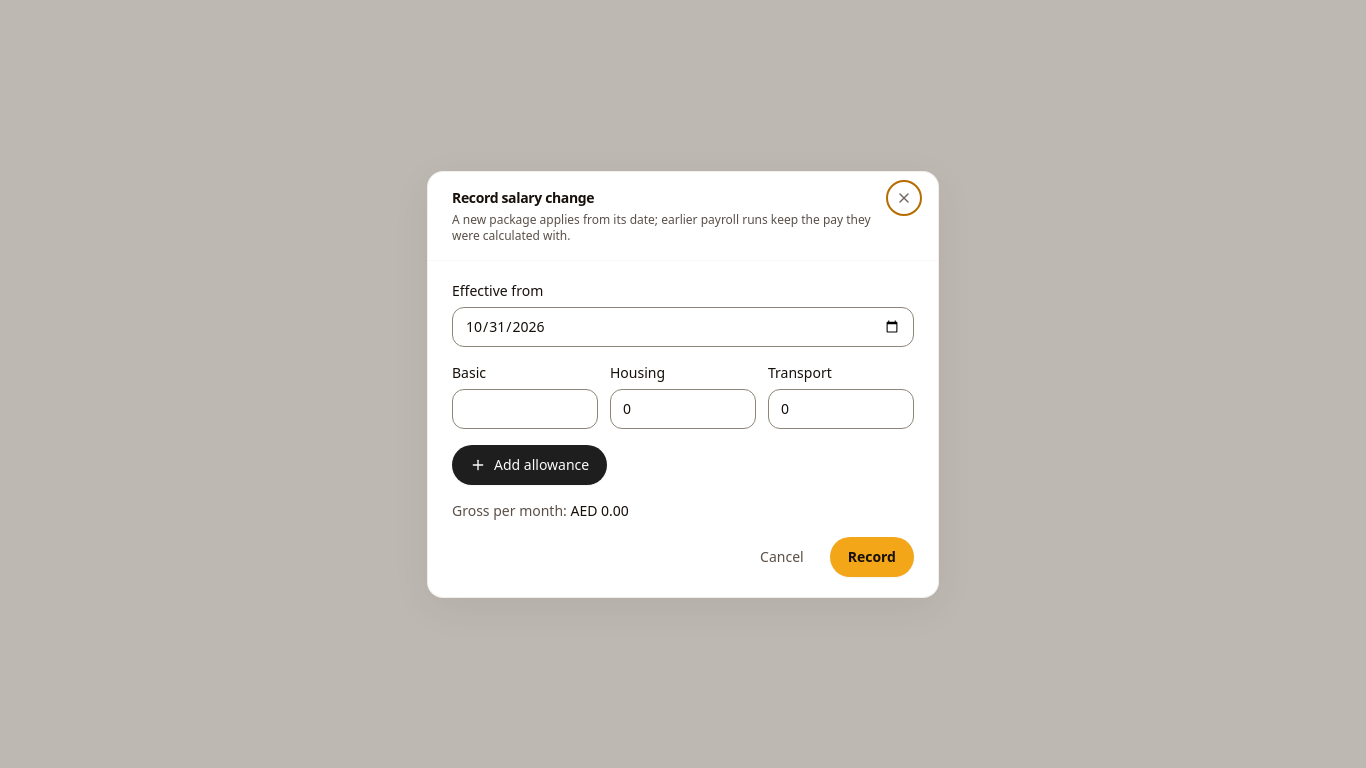
SalaryPackageModal › shows an error for an empty allowance label
The width and height of the screenshot is (1366, 768).
In the number field labelled "Basic": (525, 408) [452, 388, 598, 428], type "5000"
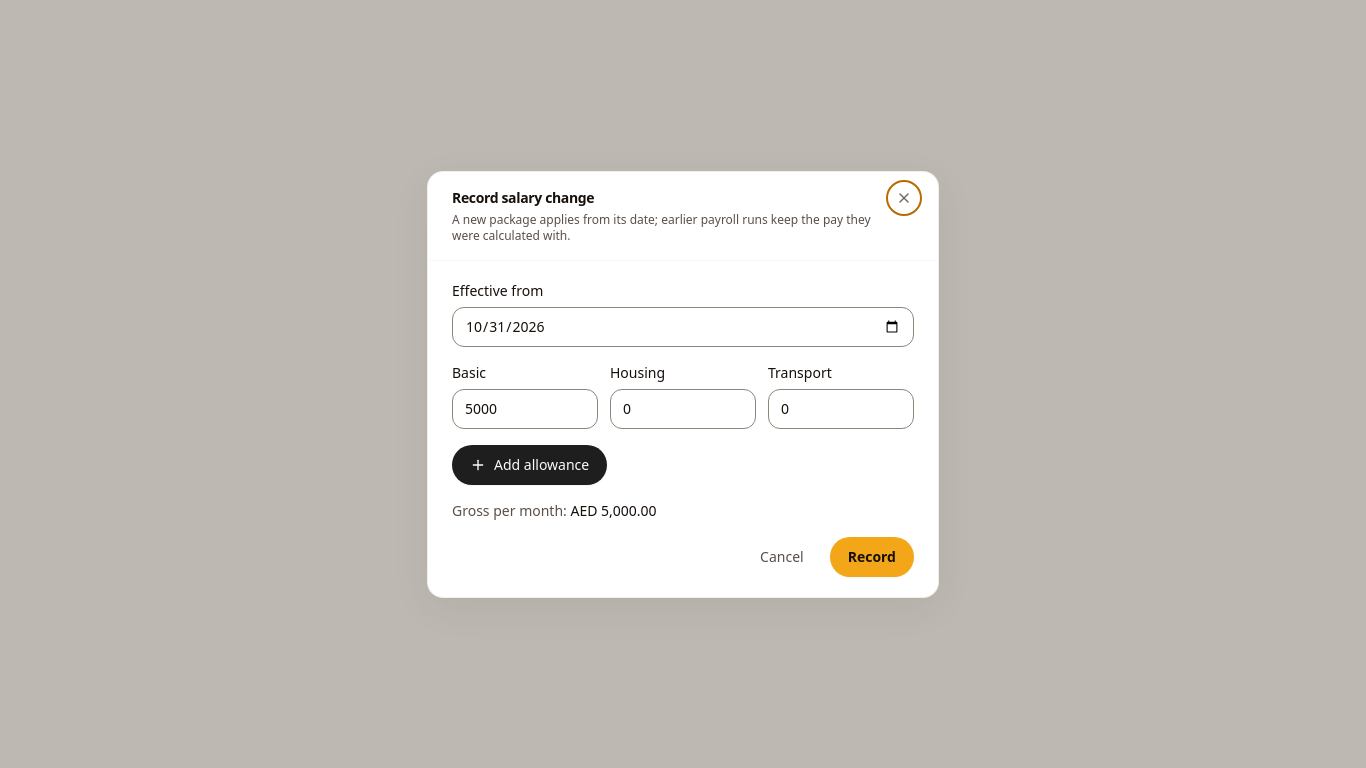
Click the button "Add allowance": (530, 464) [452, 444, 607, 484]
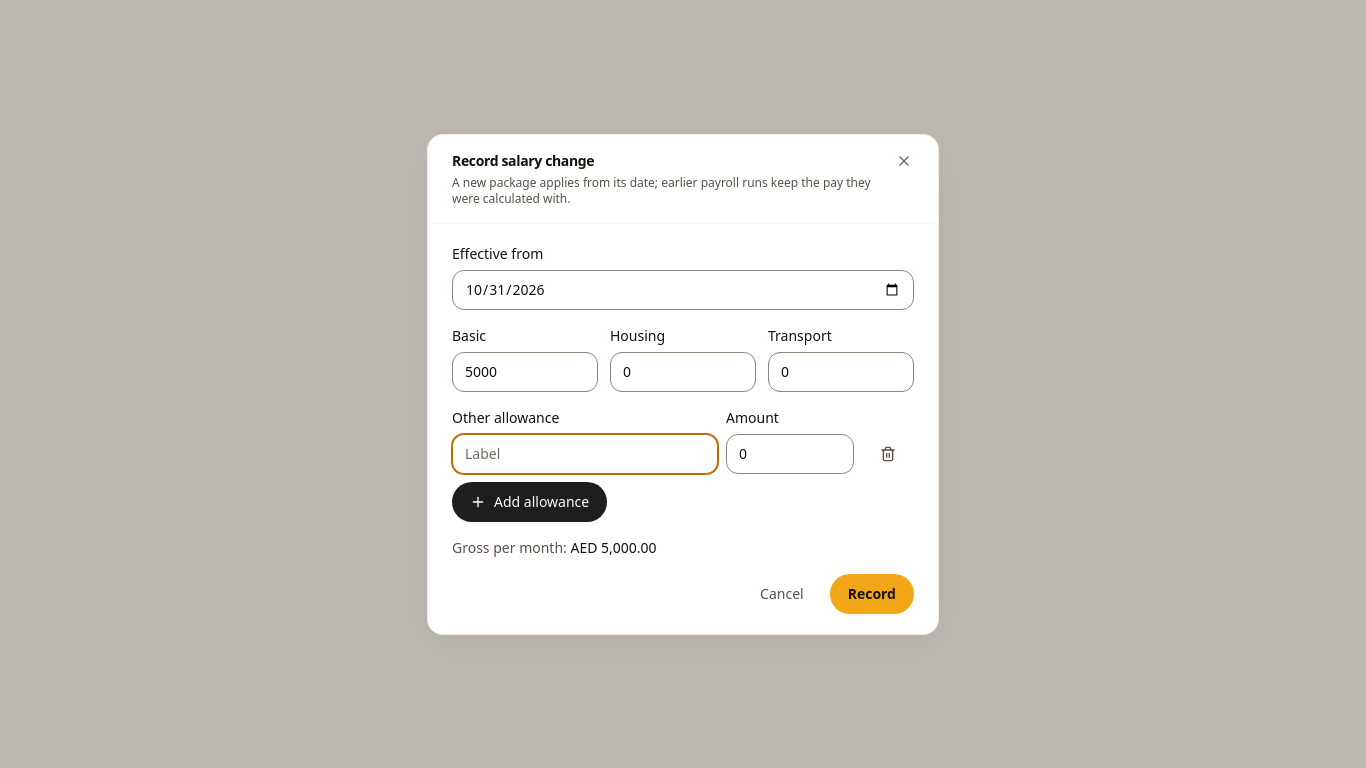
Submit the form with test id "salary-package-form", box [452, 244, 914, 614]
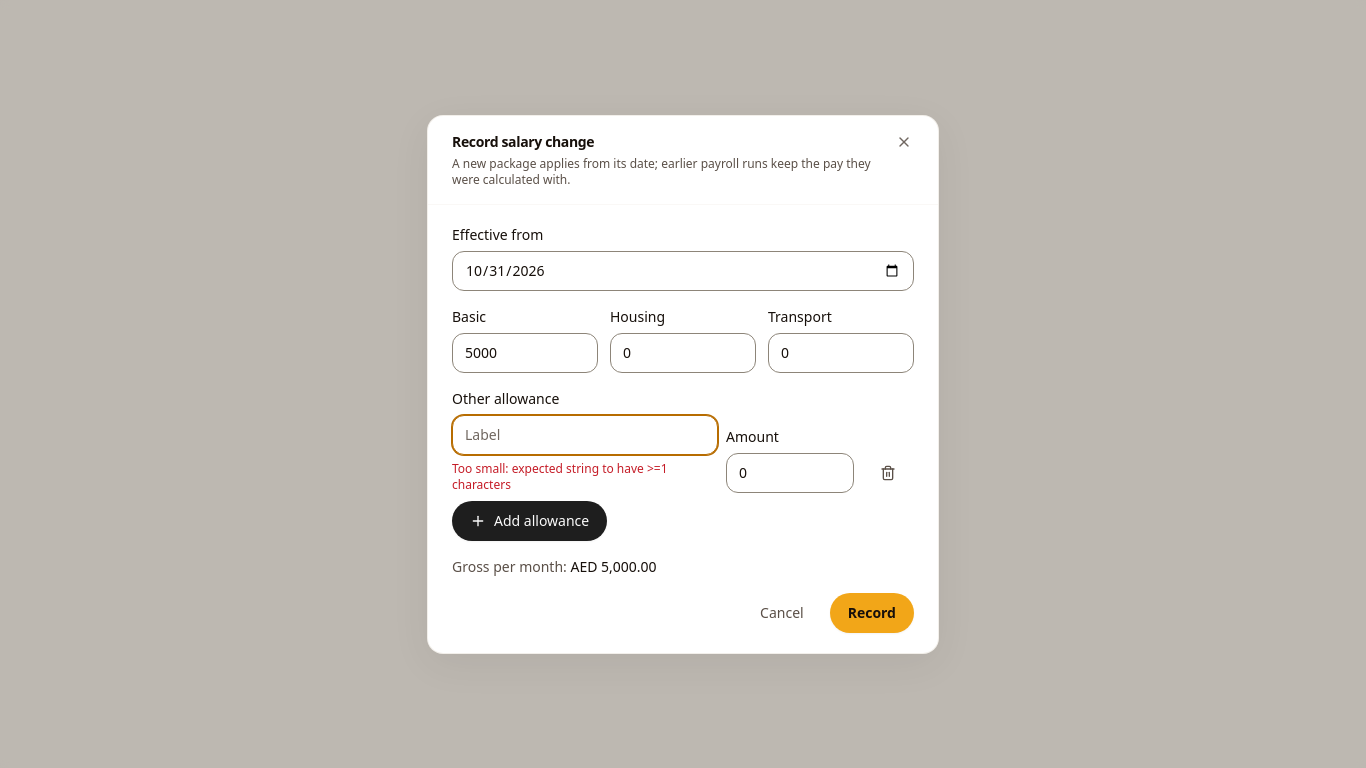
Now the text "Too small: expected string to have >=1 characters" is shown, box [452, 460, 668, 492]
